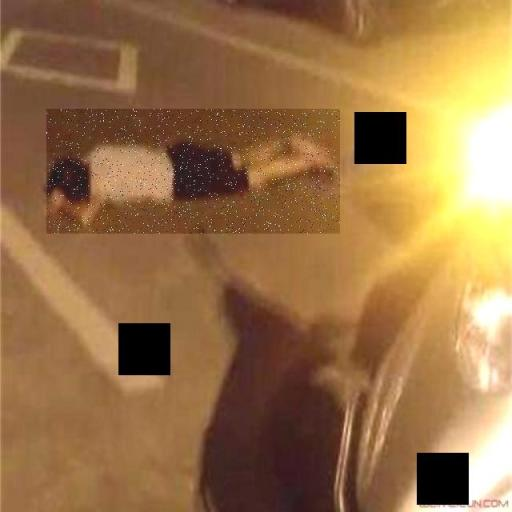Fall: (46, 110, 340, 235)
